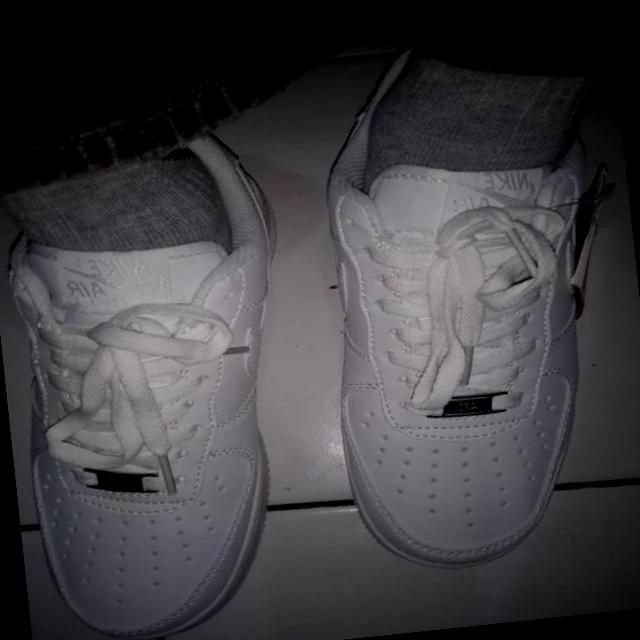nike_fake_airforce: (294, 16, 632, 581), (0, 119, 314, 640)
